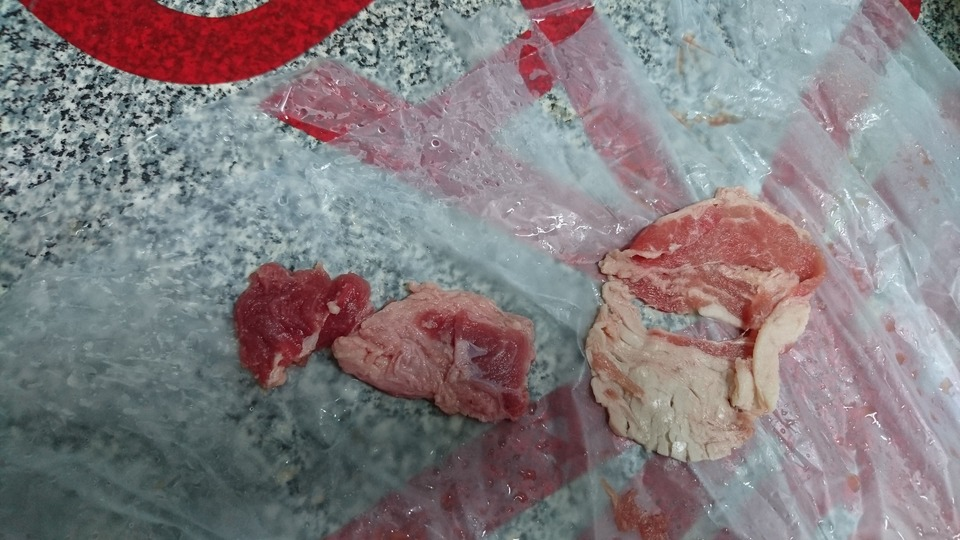restructured meat: (584, 178, 834, 464), (232, 256, 531, 419)
